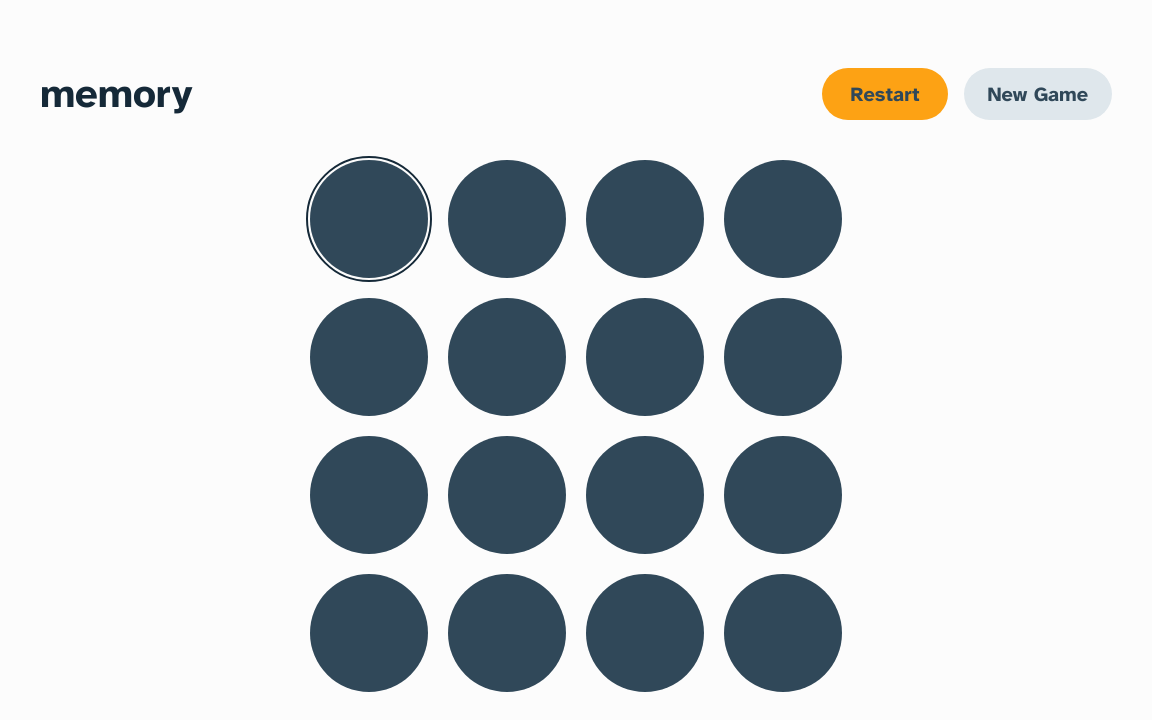
Test: GameScreen › zeroes the clock and the moves on restart
The width and height of the screenshot is (1152, 720).
Click the 1st button named "Hidden tile".
click(369, 219)  # box [310,160,428,278]
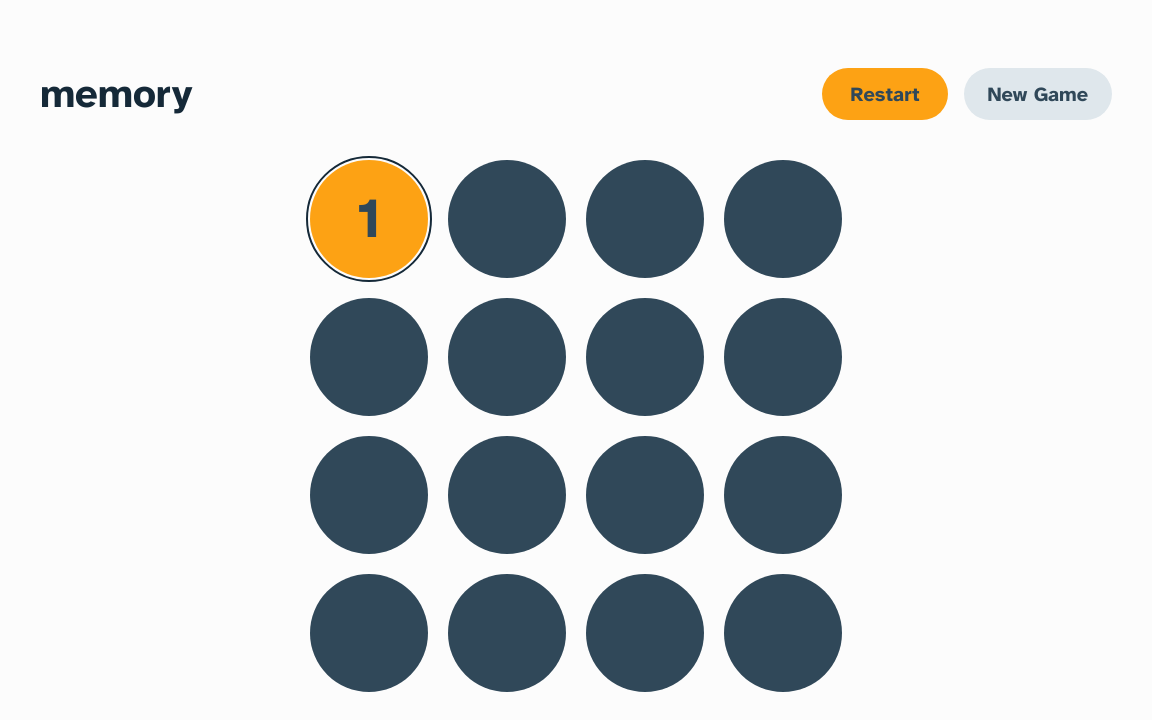
Click the 1st button named "Hidden tile".
click(507, 219)  # box [448,160,566,278]
Wait 4000 ms
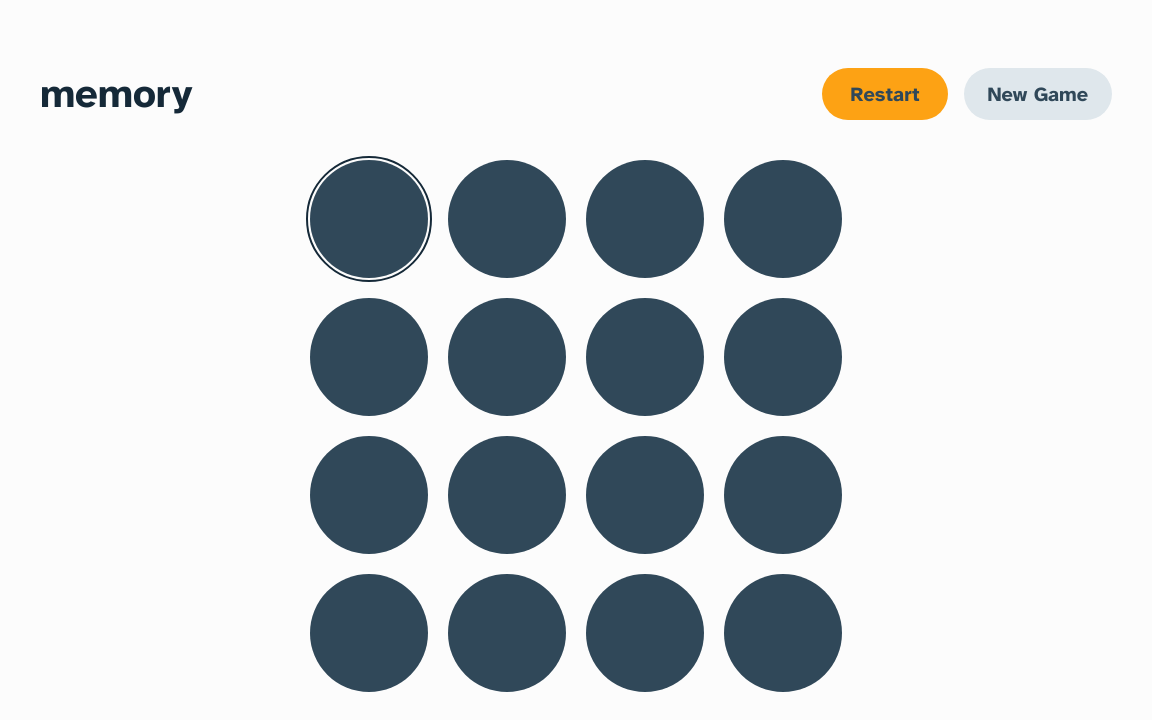
Click the button "Restart".
click(885, 94)  # box [822,68,948,120]
Wait 4000 ms
(page scrolled)
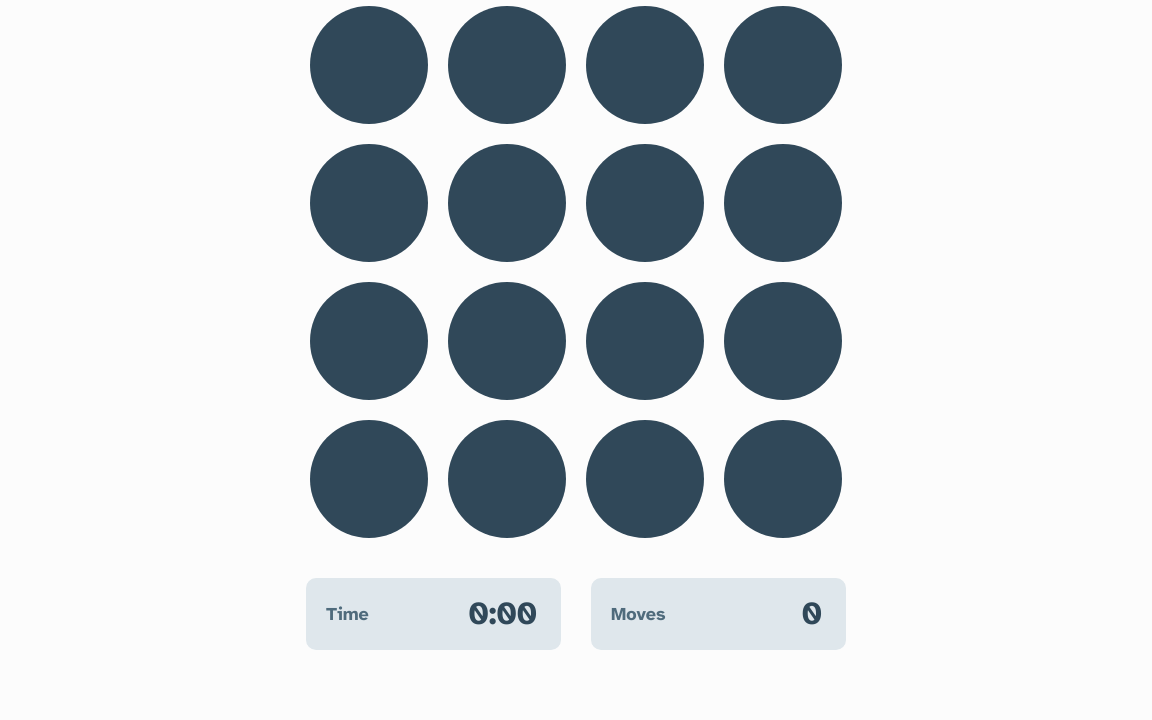
Now the element showing "0:00" is shown, box [468,594,537,634]
